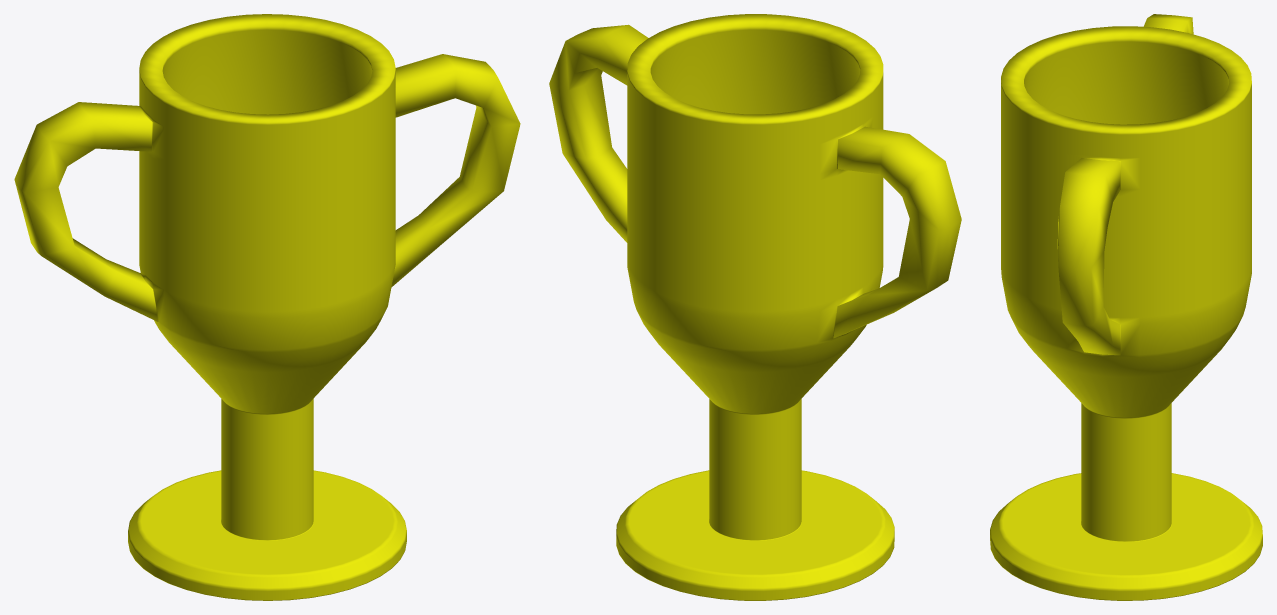
File: Gold trophy_1.fbx
The picture shows the model from 3 angles, left to right: view 1: azimuth 30°, elevation 25°; view 2: azimuth 150°, elevation 25°; view 3: azimuth 270°, elevation 25°; orthographic projection. The views are drawn at different scales.
Visible parts, largest first — view 1: Gold trophy_01; view 2: Gold trophy_01; view 3: Gold trophy_01.
Boxes of the visible parts, bbox=[...] form: Gold trophy_01: bbox=[14, 14, 520, 600]; Gold trophy_01: bbox=[549, 14, 961, 600]; Gold trophy_01: bbox=[990, 14, 1262, 600].
Size of the model in its own units: 49.71 by 50.18 by 26.72.
